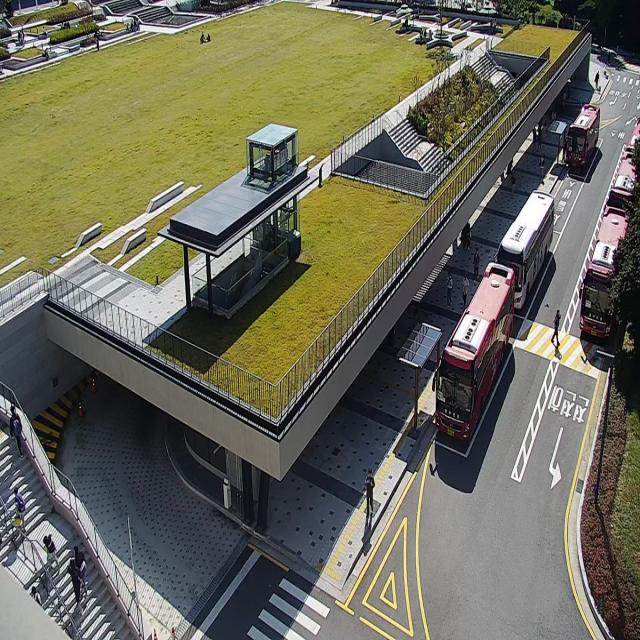queue: (412, 330, 439, 441)
